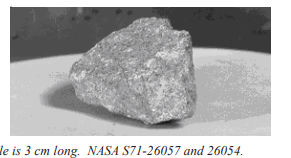Basalt: (61, 12, 228, 129)
